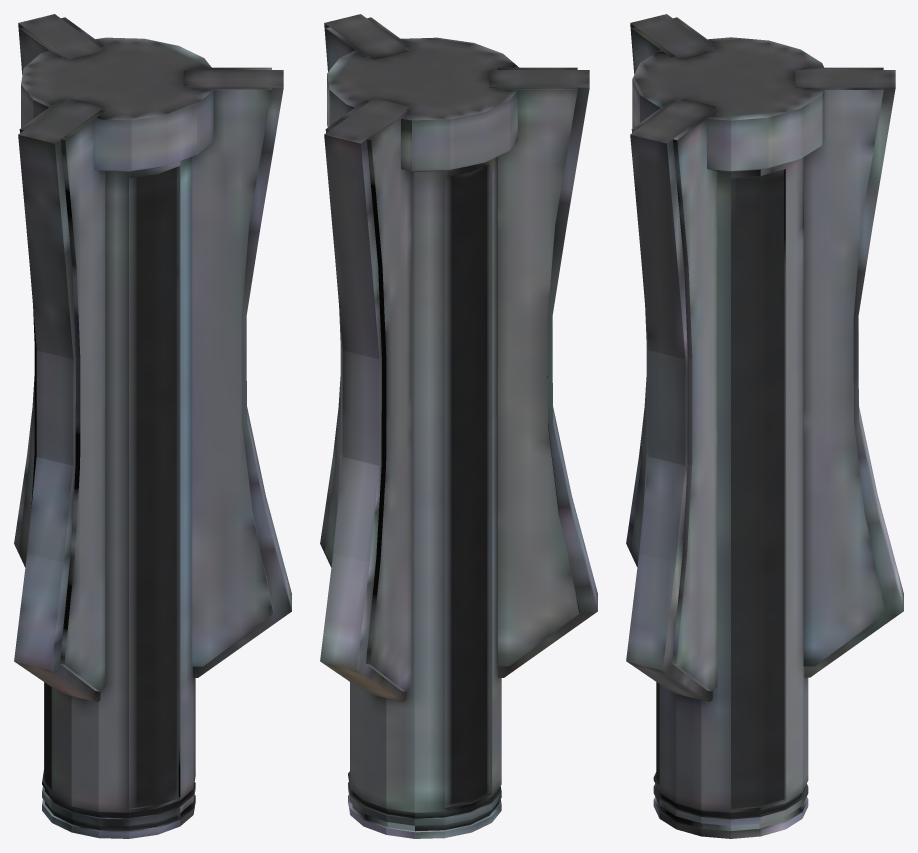
File: revan_grip.obj
3 renders of one model, left to right at view 1: azimuth 30°, elevation 25°; view 2: azimuth 150°, elevation 25°; view 3: azimuth 270°, elevation 25°, orthographic.
Visible parts, largest first — view 1: grip; view 2: grip; view 3: grip.
Boxes of the visible parts, x1,y1,x2,y2 form: grip: (14,14,291,838); grip: (320,14,597,838); grip: (626,14,903,838).
Size of the model in its own units: 0.1202 by 0.3008 by 0.1041.
